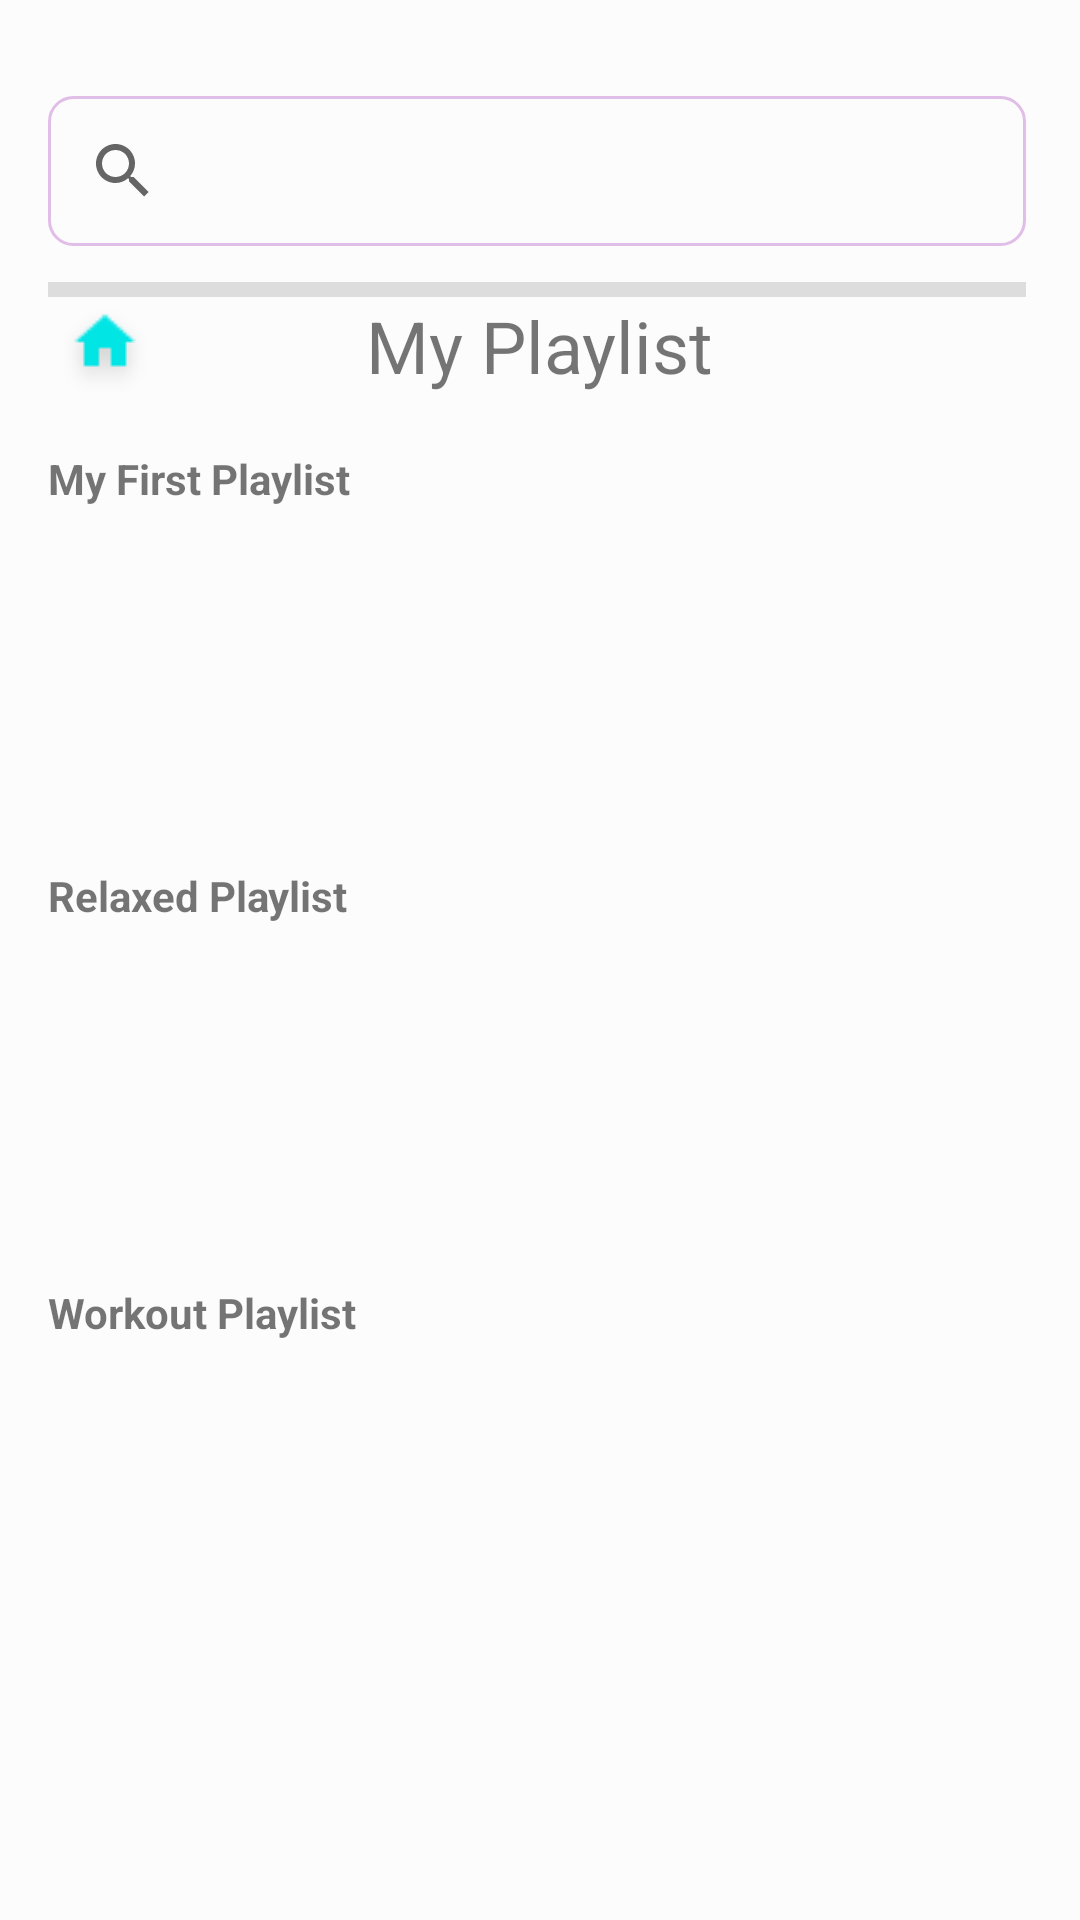

Icon bounding boxes for this 1080x1920 phone screenshot, format (x1=x1, y1=y1, x2=x2, y2=y2):
home: (x1=74, y1=314, x2=136, y2=367)
